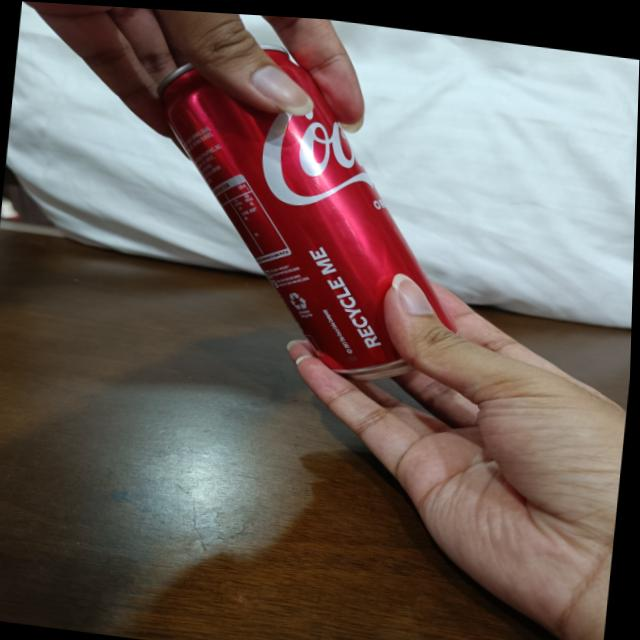coke: (141, 31, 475, 372)
